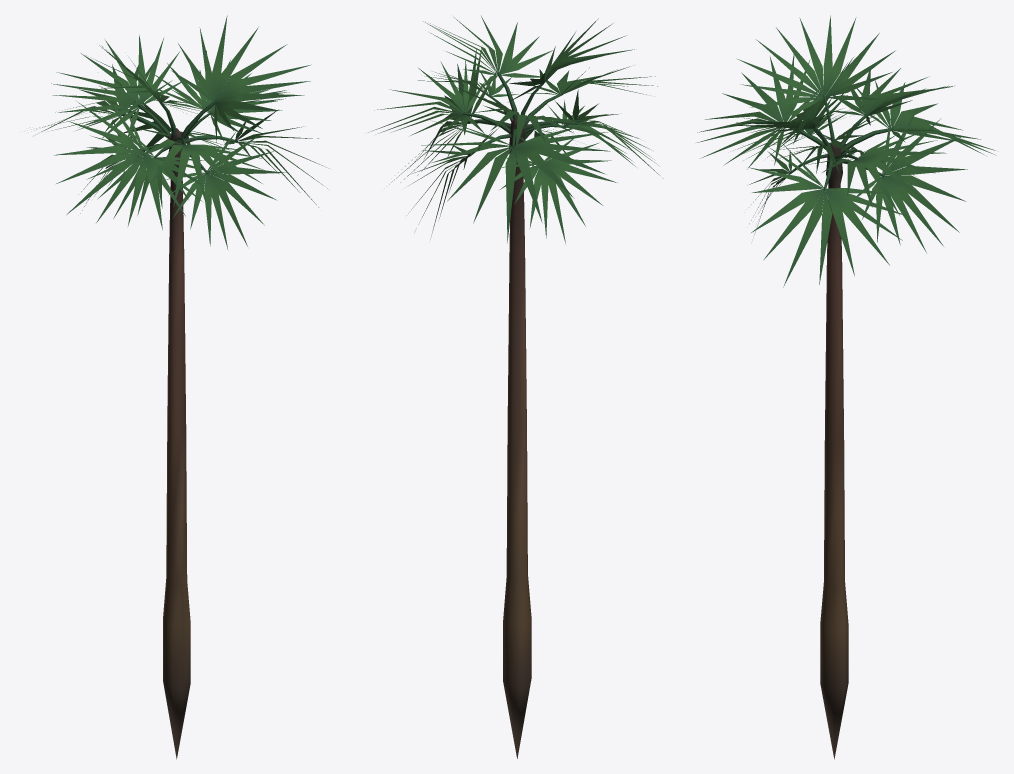
The model's file is trees-palms-ferns-tall-palm_v2.fbx.
The picture shows the model from 3 angles, left to right: view 1: azimuth 30°, elevation 25°; view 2: azimuth 150°, elevation 25°; view 3: azimuth 270°, elevation 25°; orthographic projection. The views are drawn at different scales.
Parts seen in each view (by area): view 1: Tall Palm_v2; view 2: Tall Palm_v2; view 3: Tall Palm_v2.
Boxes of the visible parts, box(x1,y1,x2,y2) form: Tall Palm_v2: box(36, 15, 329, 759); Tall Palm_v2: box(368, 16, 663, 758); Tall Palm_v2: box(696, 15, 996, 759).
Bounding box in the file's own units: 7.35 × 20 × 7.88.
